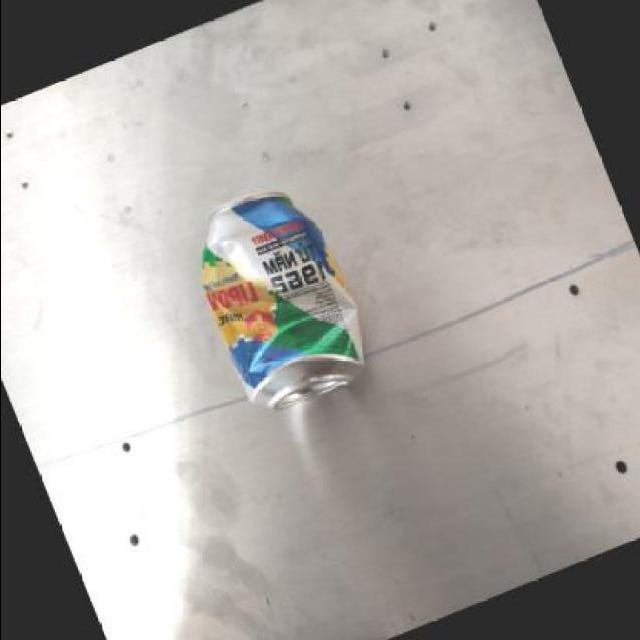can: (159, 148, 403, 441)
